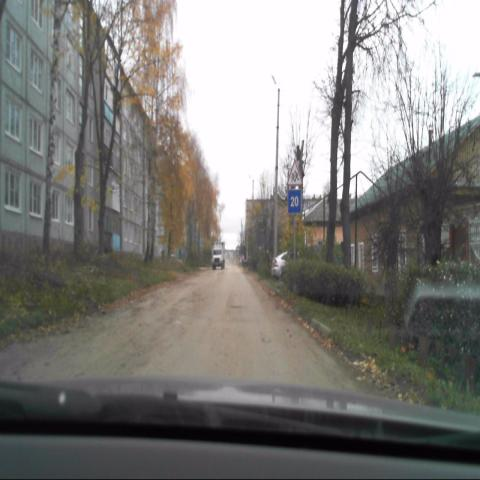6_2: (288, 189, 301, 213)
